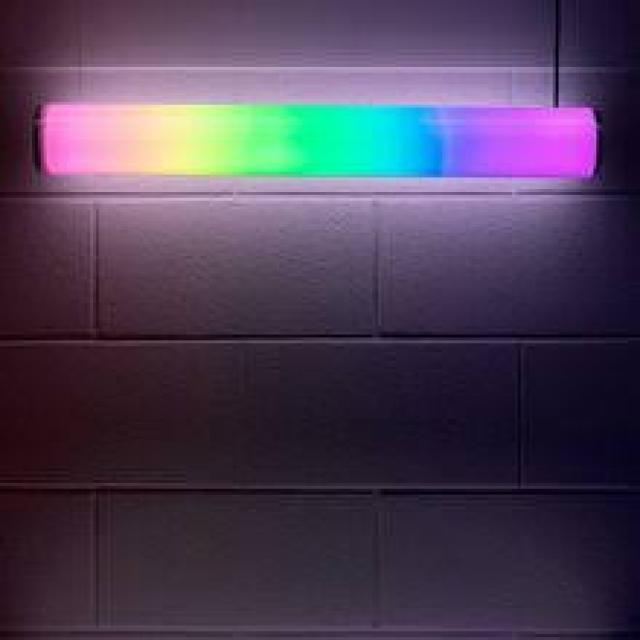tubelight_on: (32, 90, 622, 190)
